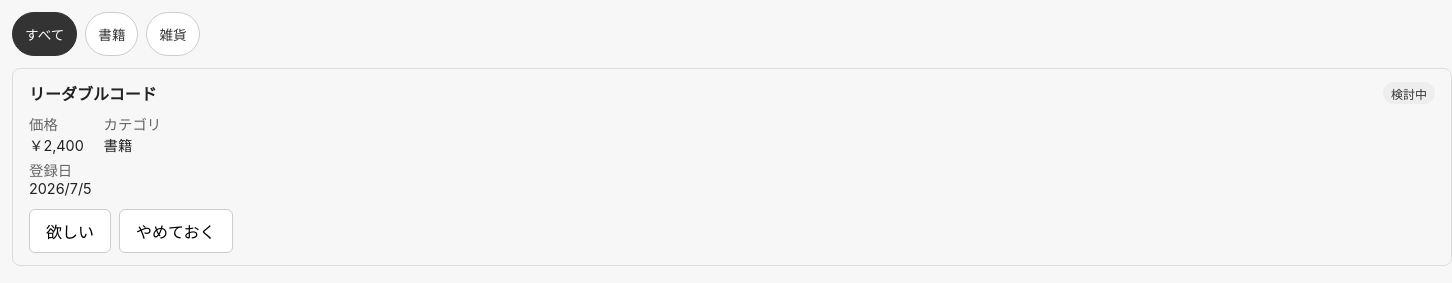
Test: WishItemList › レビュー操作が成功すると一覧が更新される
Check: the heading "リーダブルコード" is shown, box [29,81,157,105]
Click the button "欲しい": (70, 231) [29,209,111,253]
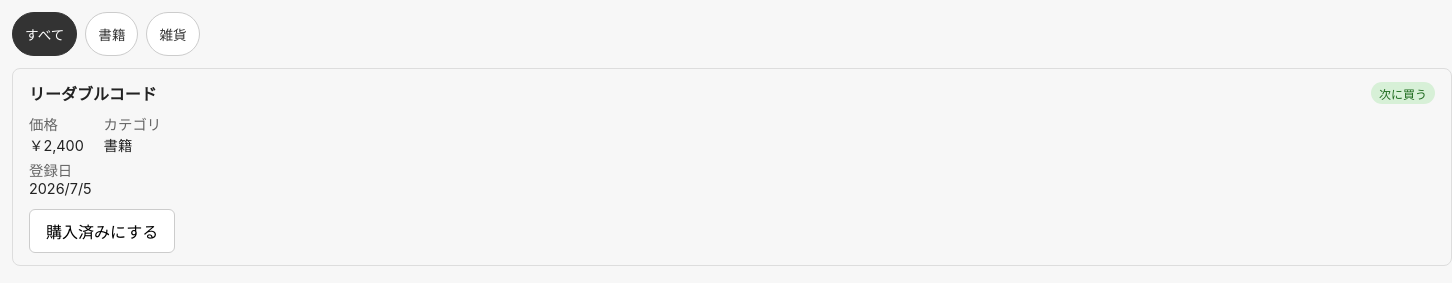
Check: the button "欲しい" is gone
